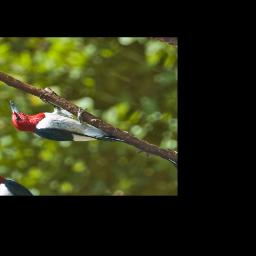Woodpecker: (0, 82, 138, 169)
